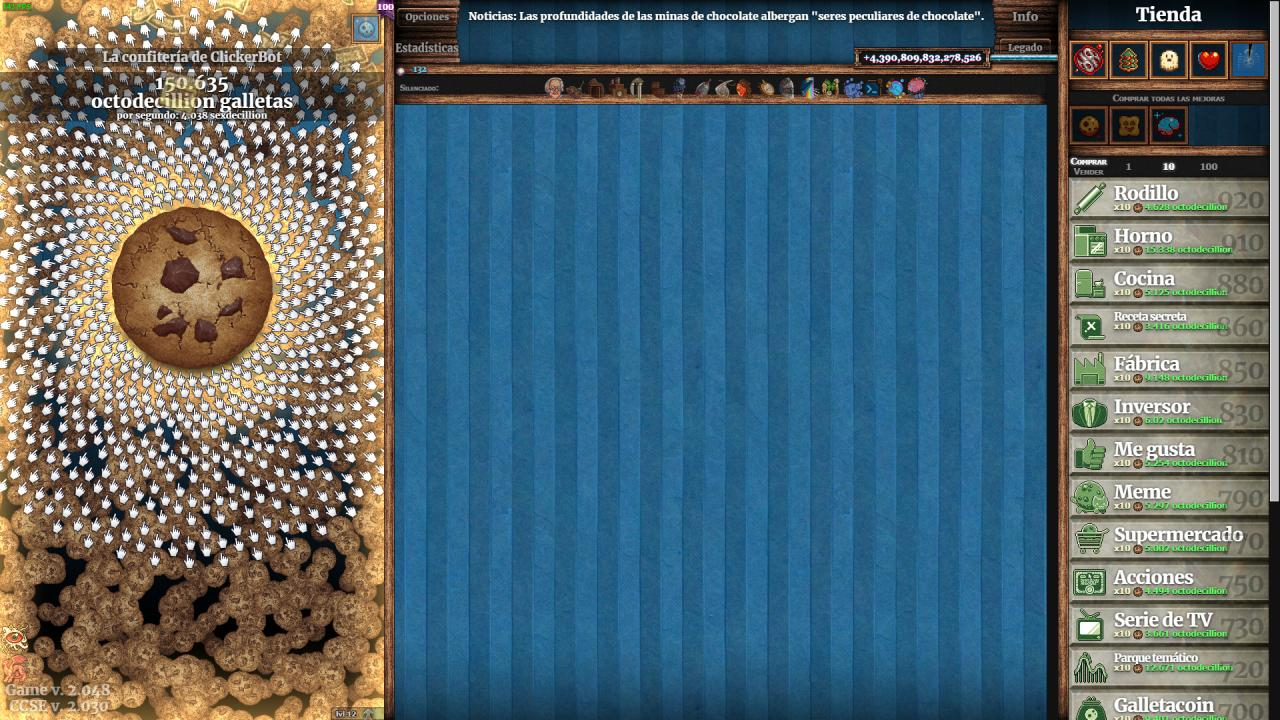GoldenCartridge: (156, 70, 204, 117)
